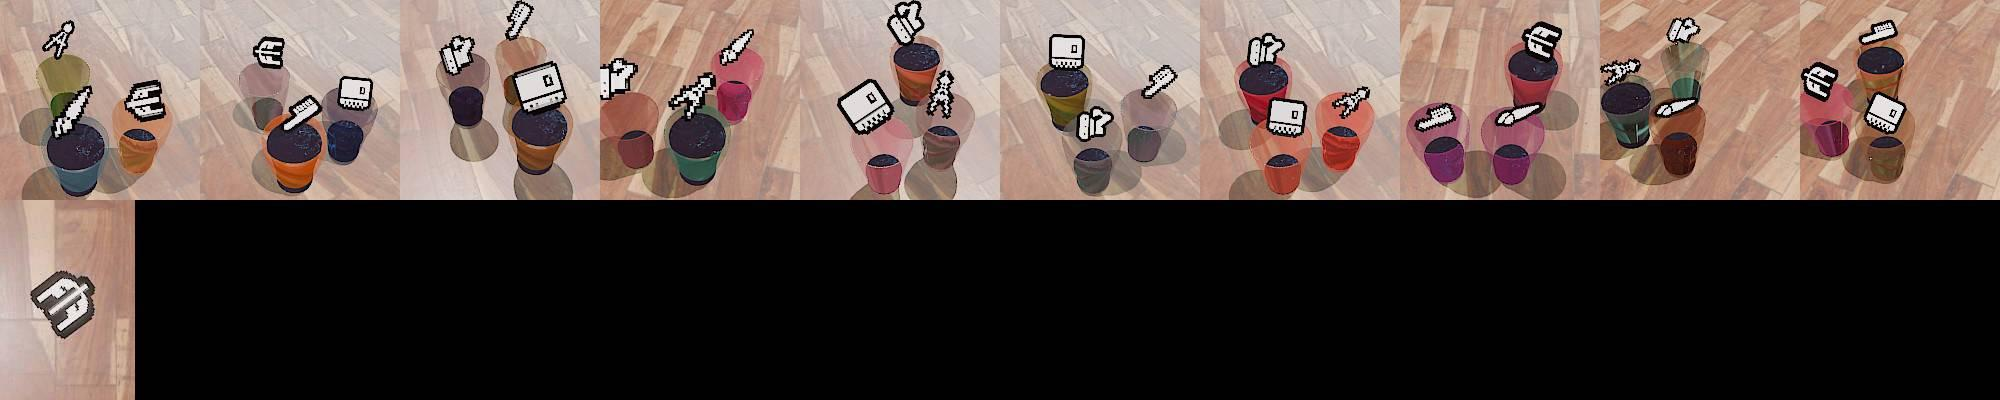icon: (29, 269, 97, 339), (837, 79, 894, 135), (509, 60, 568, 115), (668, 70, 718, 122), (50, 84, 94, 139), (124, 79, 166, 124), (1864, 92, 1906, 136), (1267, 96, 1307, 138), (1522, 22, 1562, 64), (886, 0, 925, 45), (599, 56, 638, 98), (1075, 102, 1115, 141), (282, 94, 323, 132), (439, 34, 476, 76), (1801, 61, 1839, 101), (718, 27, 755, 66), (926, 69, 955, 118), (1048, 32, 1084, 73), (1330, 84, 1372, 118), (1142, 64, 1177, 102), (1247, 32, 1286, 68), (1415, 101, 1457, 132), (337, 75, 372, 112), (42, 19, 74, 60), (1599, 59, 1643, 88), (1495, 101, 1542, 127), (504, 0, 534, 41), (1654, 93, 1699, 120), (253, 36, 286, 70), (1858, 19, 1899, 46), (1667, 18, 1700, 46)
